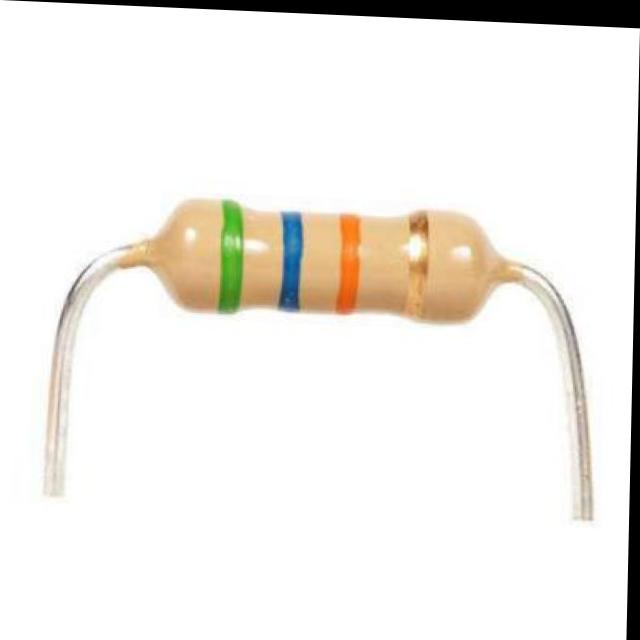Capacitor: (110, 197, 537, 324)
